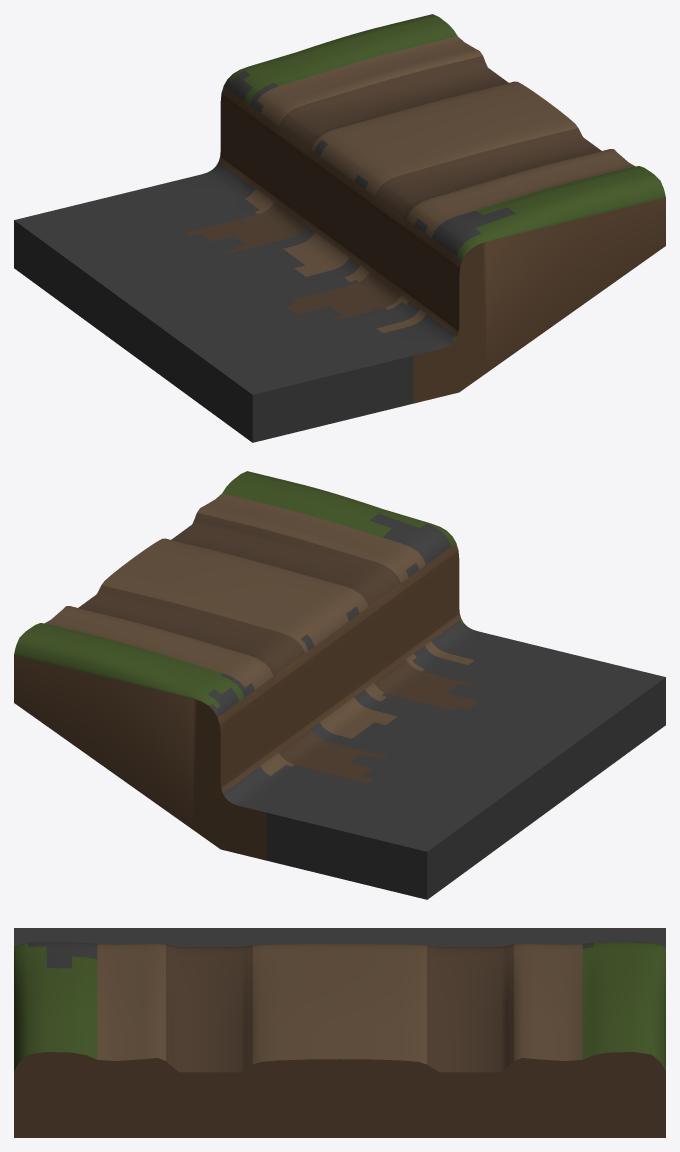
3 views of the same model, one above another, from view 1: azimuth 30°, elevation 25°; view 2: azimuth 150°, elevation 25°; view 3: azimuth 270°, elevation 25° (orthographic). The views are drawn at different scales.
Parts seen in each view (by area): view 1: k2u; view 2: k2u; view 3: k2u.
Part boxes in pixels (<box>): k2u: <box>14,14,665,442</box>; k2u: <box>14,471,665,899</box>; k2u: <box>14,928,665,1137</box>.
Bounding box in the file's own units: 9 × 3.31 × 9.
